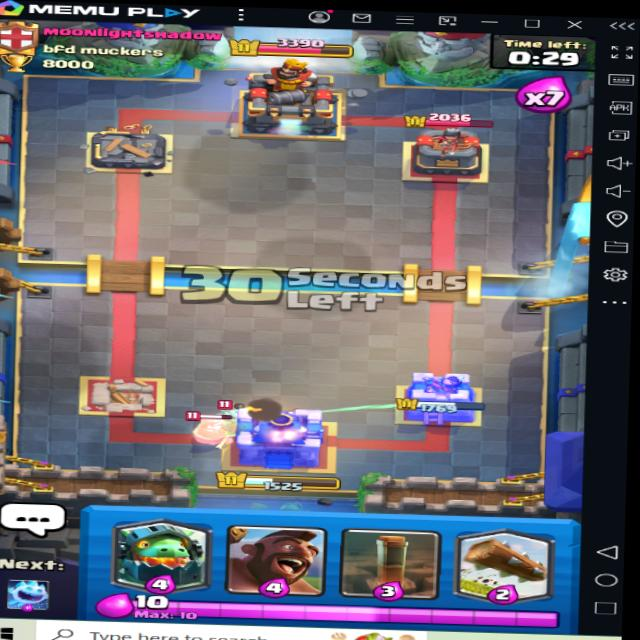monk: (182, 408, 239, 450)
monk-ability: (188, 410, 247, 451)
